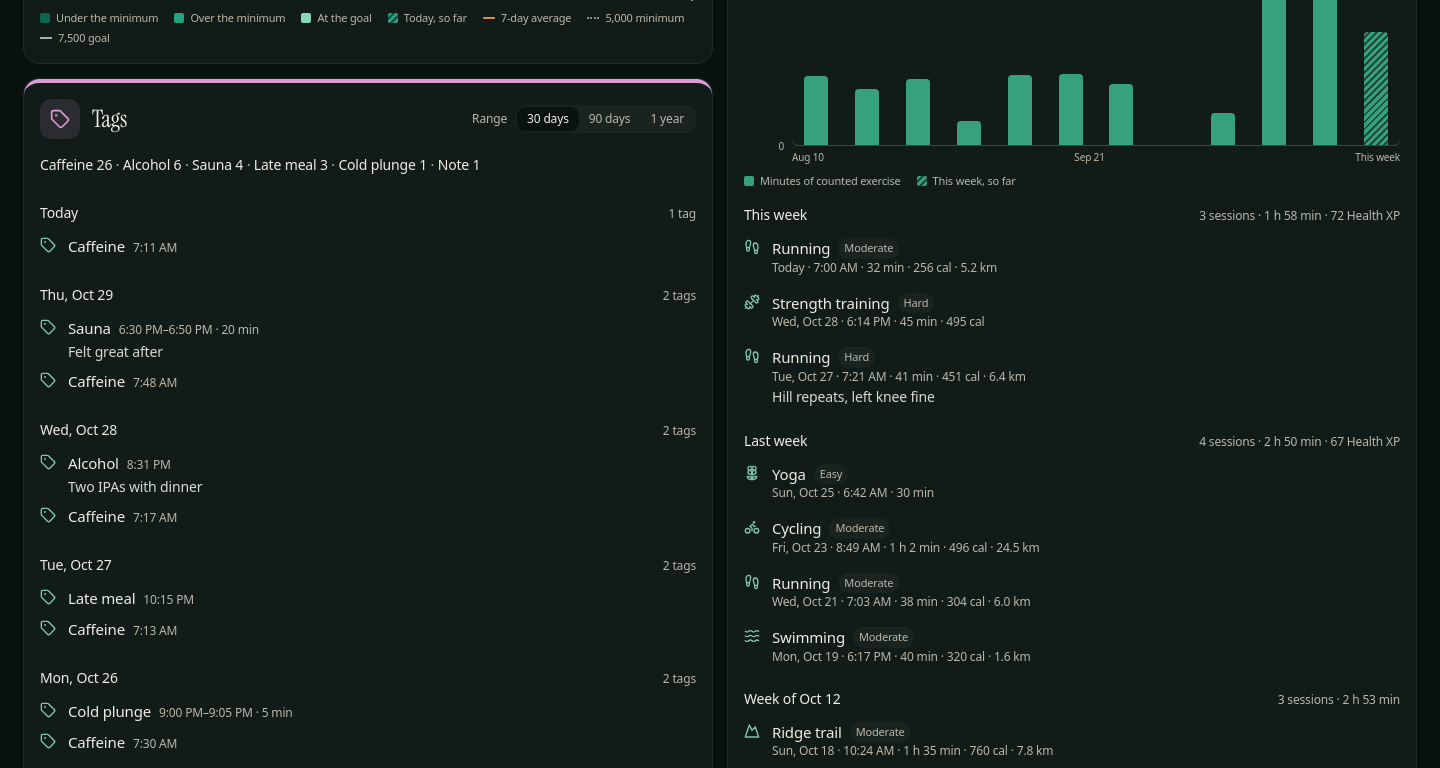
Test case: Activity page (activity plan §3.7) › clears a note, and says why a save was refused
The image size is (1440, 768).
(page scrolled)
Click the text "Hill repeats, left knee fine". click: coordinates (853, 396)
box: [772,386,935,406]
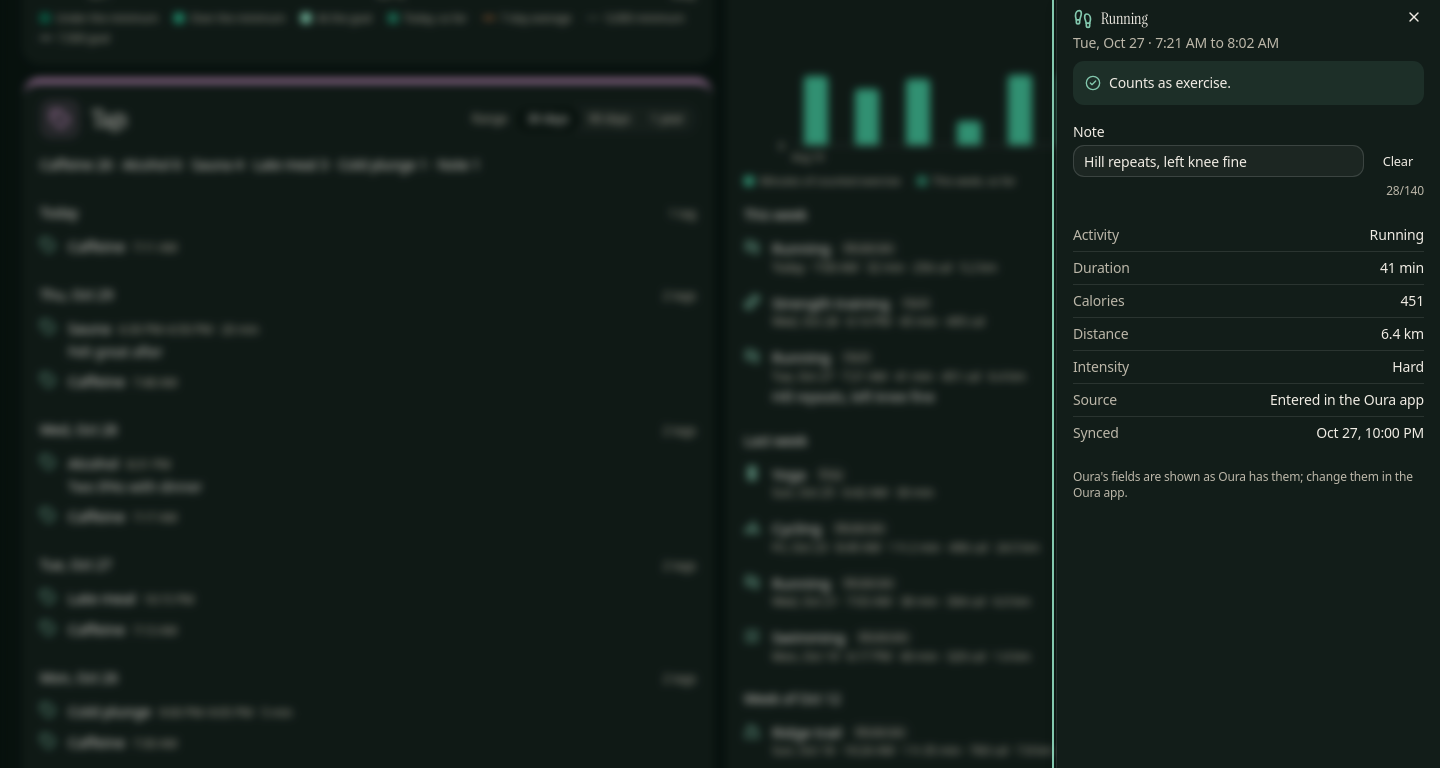
expect the field labelled "Note" holds "Hill repeats, left knee fine": met, box [1073,145,1364,177]
Click the button "Clear". click: coordinates (1398, 161)
box: [1372,147,1424,175]
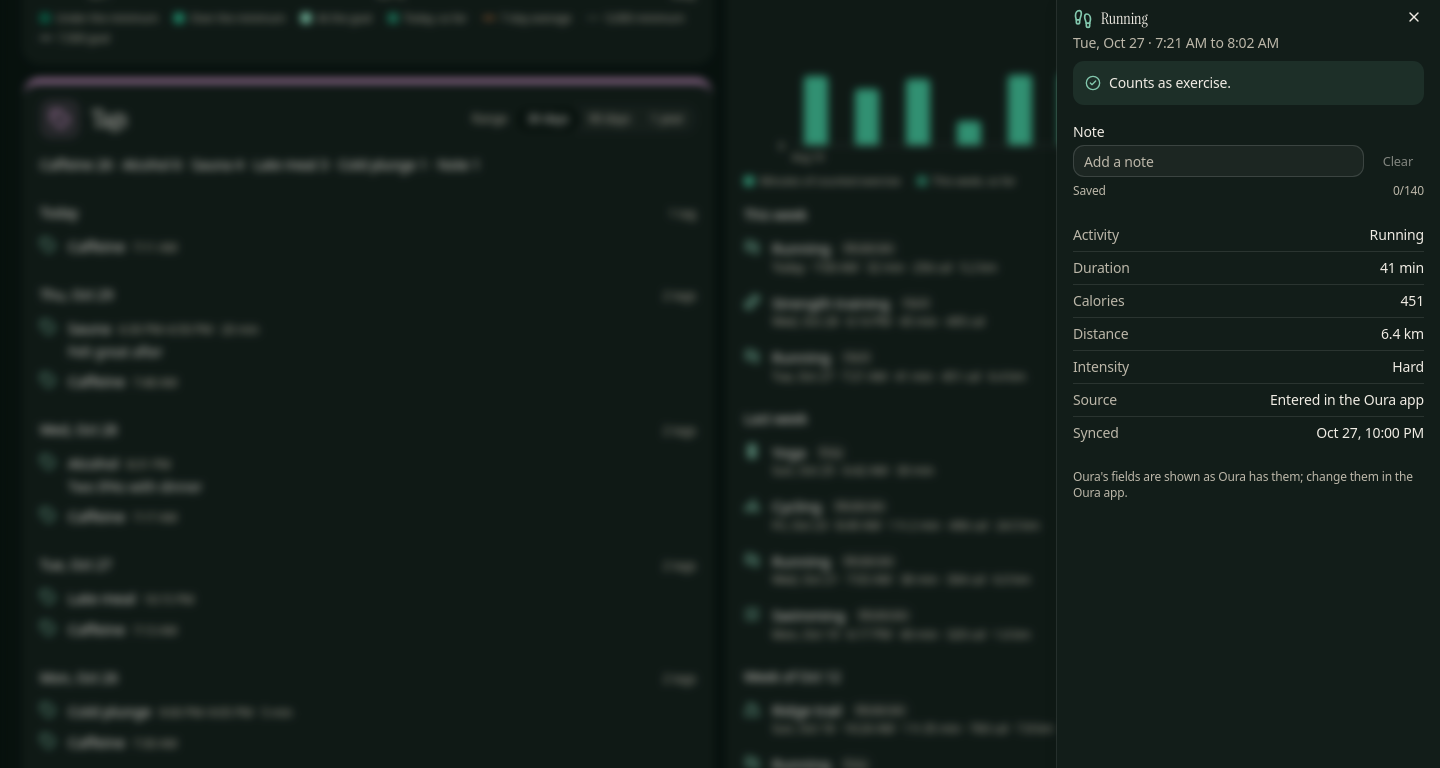
expect the text "Saved" is shown: met, box [1073,183,1106,199]
expect the field labelled "Note" is empty: met
expect the text "Hill repeats, left knee fine" is gone: met
Type "Again" into the field labelled "Note". click: coordinates (1218, 161)
box: [1073,145,1364,177]
Then press Enter
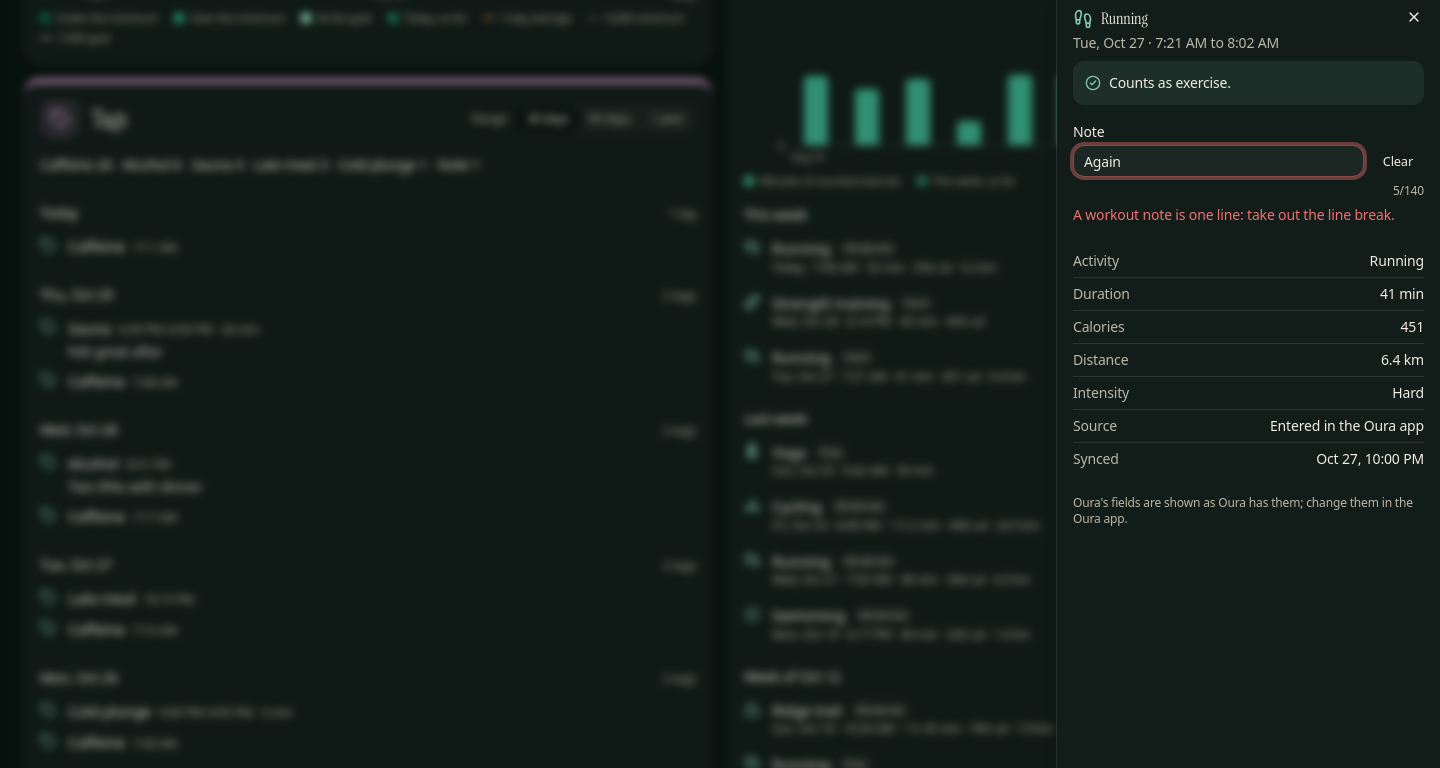
expect the message shows "one line": met, box [1073,205,1394,224]
